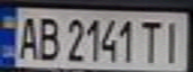1: (115, 16, 139, 63), (81, 15, 103, 63)
2: (63, 15, 84, 62)
4: (100, 15, 121, 63)
A: (12, 12, 42, 61)
B: (33, 12, 60, 62)
I: (157, 17, 187, 64)
T: (136, 17, 163, 64)
